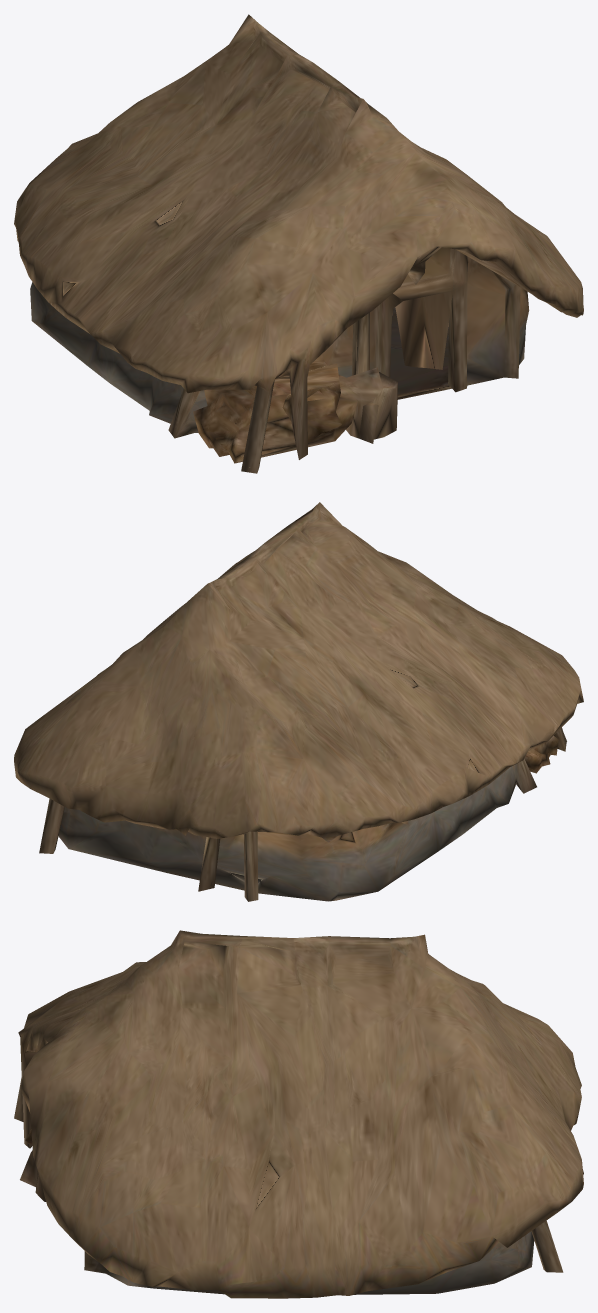
The model's file is woodcuter.glb.
The picture shows the model from 3 angles, top to bottom: view 1: azimuth 30°, elevation 25°; view 2: azimuth 150°, elevation 25°; view 3: azimuth 270°, elevation 25°; orthographic projection. The views are drawn at different scales.
Visible parts, largest first — view 1: model; view 2: model; view 3: model.
Part boxes in pixels (<box>): model: <box>14,14,583,473</box>; model: <box>14,502,583,901</box>; model: <box>14,930,583,1298</box>.
Size of the model in its own units: 0.9387 by 0.55 by 0.9879.
1 material, 1 textured.
